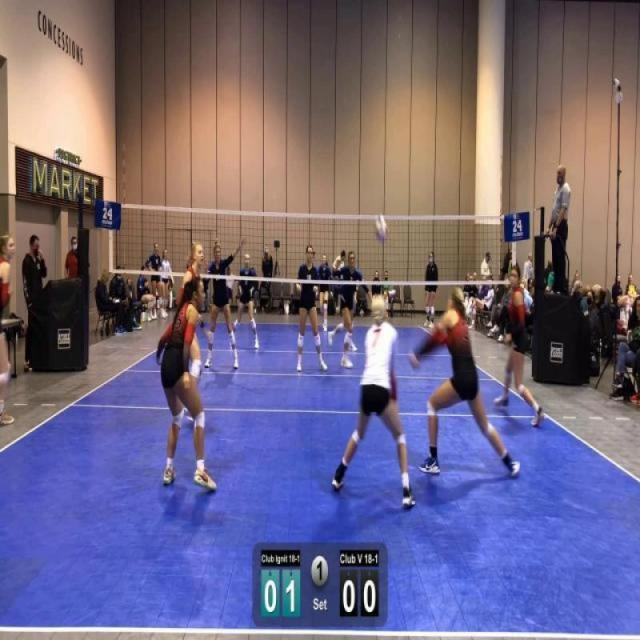volleyball: (372, 212, 390, 245)
